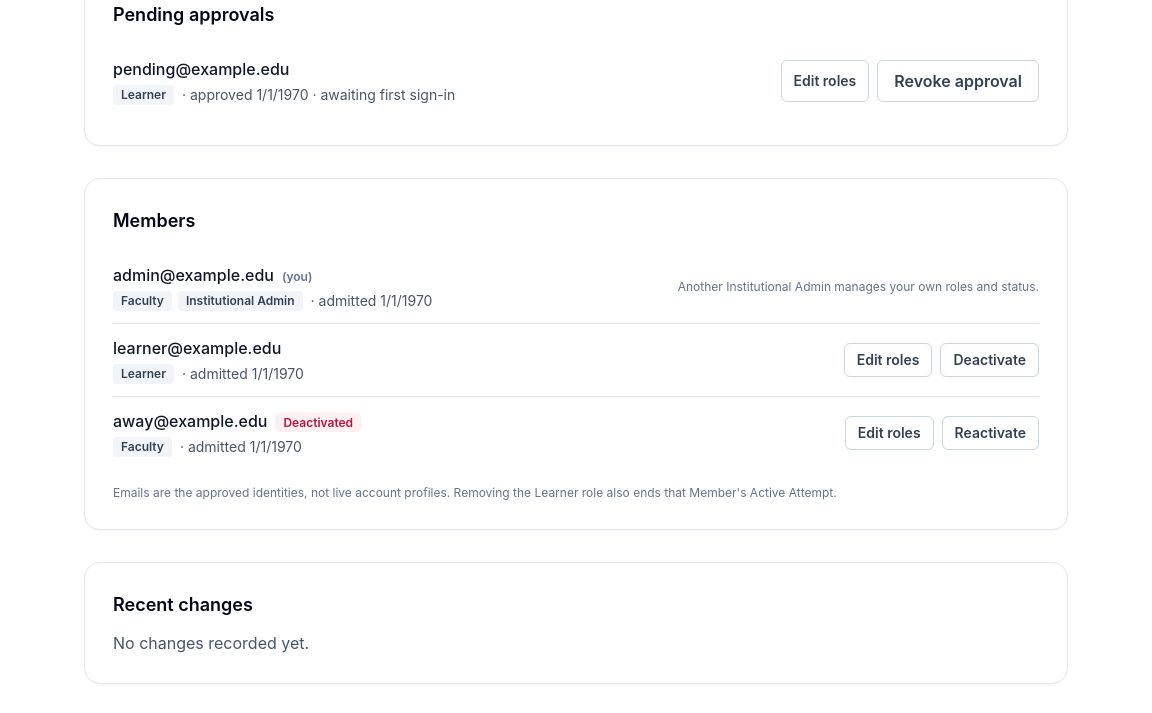
Scenario: Members page › asks before deactivating, and states what happens to the Member's work
This screenshot has width=1152, height=713.
(page scrolled)
Click the button "Deactivate" at [990, 360], box left=940, top=343, right=1039, bottom=377
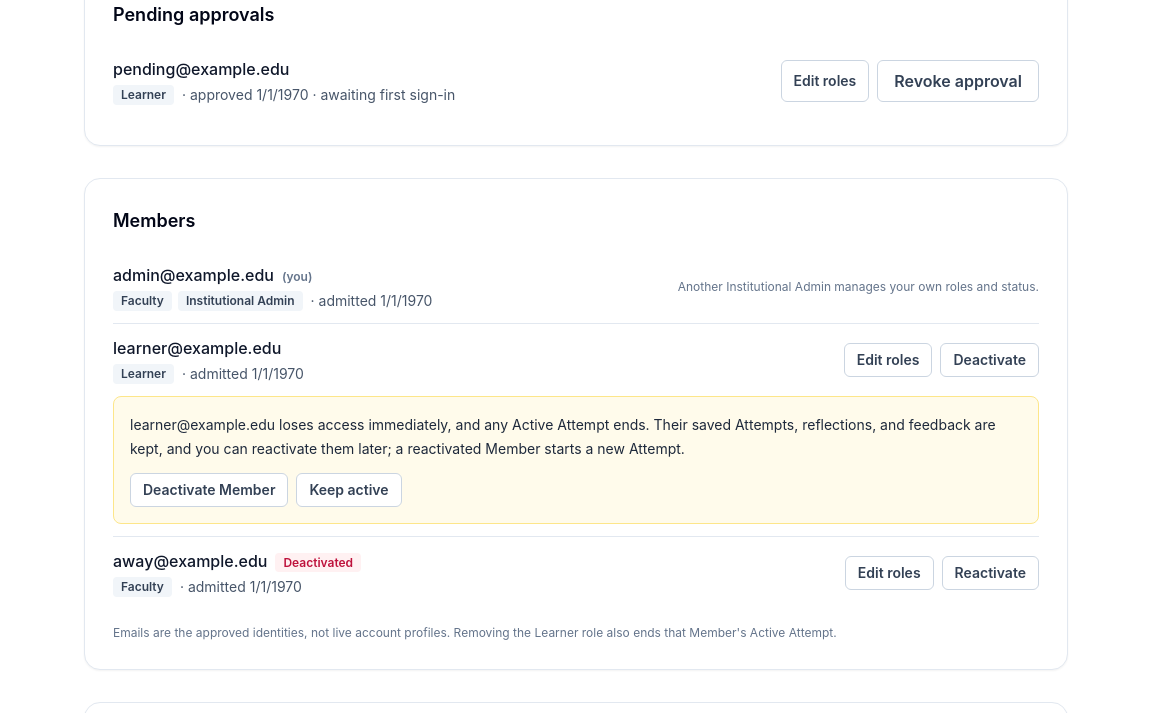
Result: the dialog shows "Active Attempt ends" at left=130, top=416, right=996, bottom=457
Result: the dialog shows "are kept" at left=130, top=416, right=996, bottom=457
Click the button "Deactivate Member" at [209, 490], box left=130, top=473, right=288, bottom=507
(page scrolled)
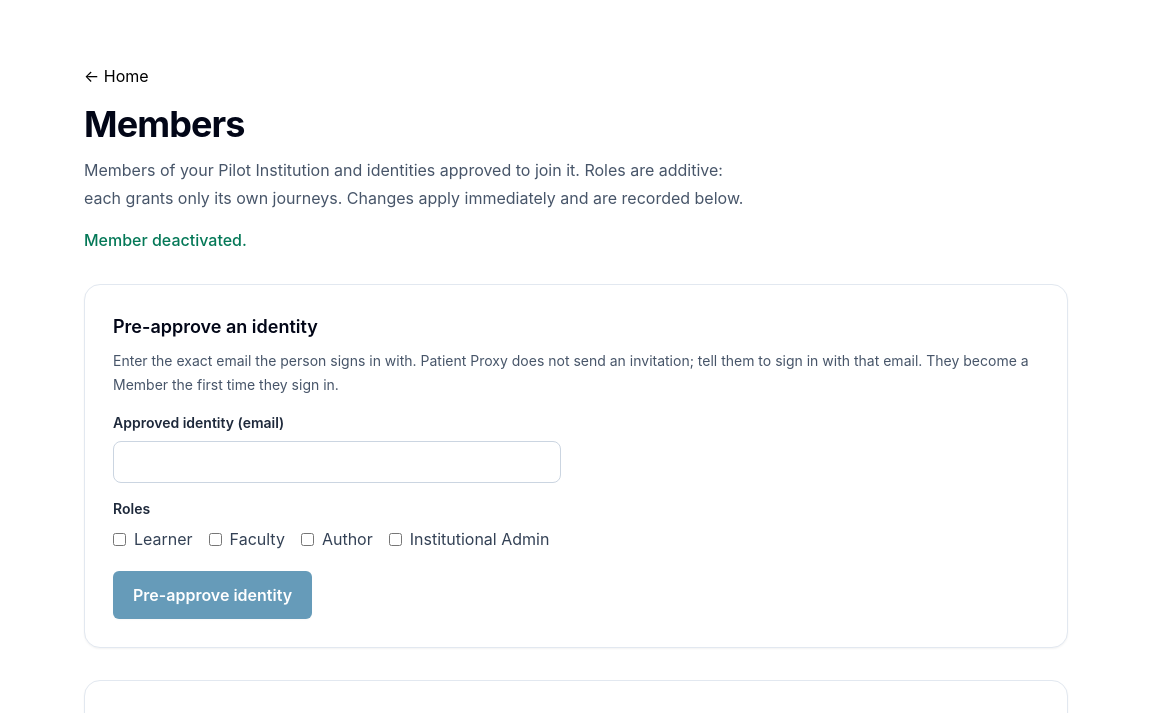
Result: the message shows "Member deactivated" at left=84, top=230, right=247, bottom=250
